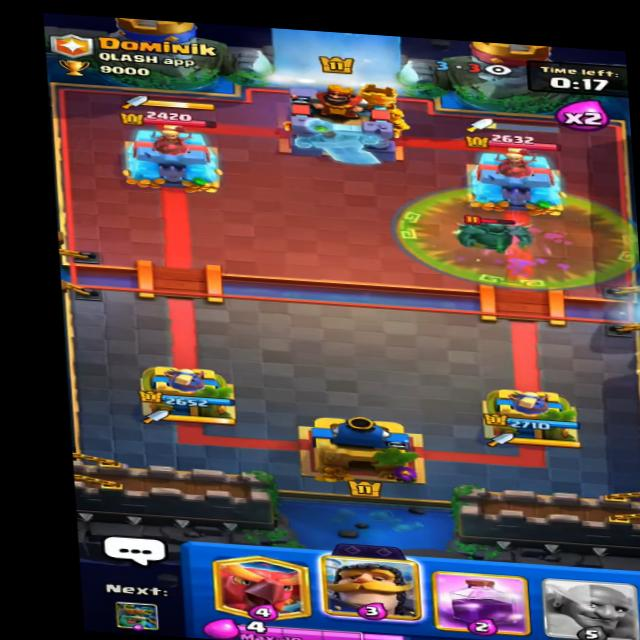pekka: (449, 211, 540, 258)
